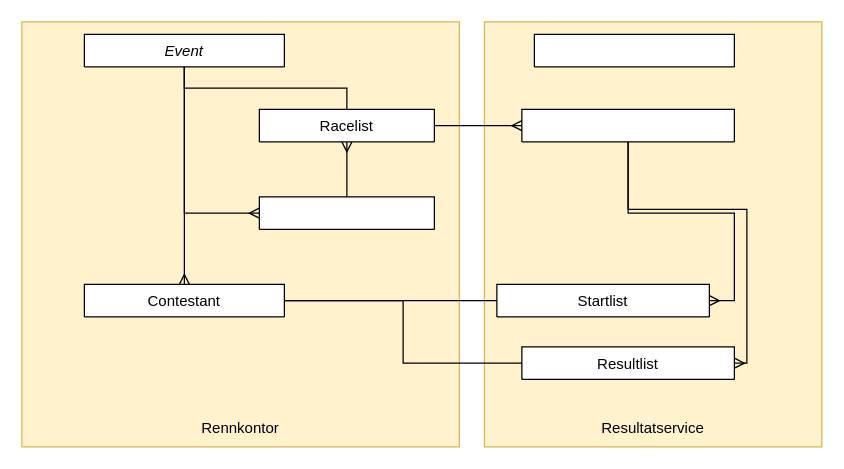
Image size: 844x469. Some labels were removed from this diagram. Here are the shapes that lost their labels. From the top down, the centre of each, then its label:
point (633, 50): Foto
point (627, 125): Race
point (346, 212): Ageclass
